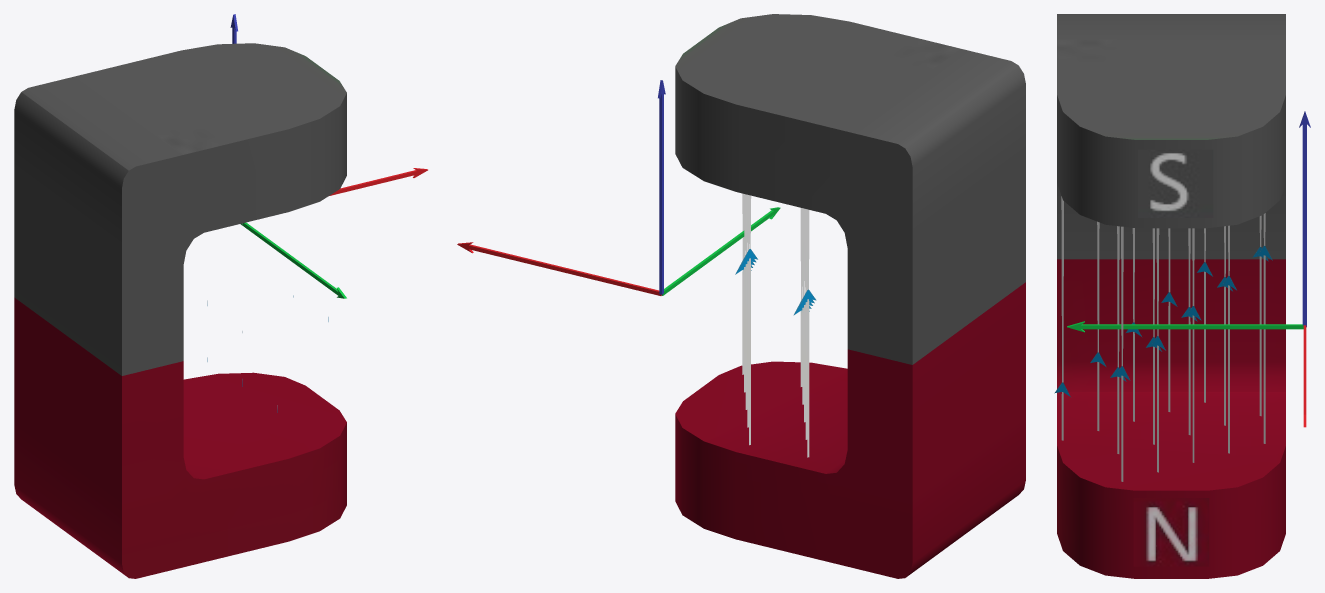
File: magnet.glb
3 views of the same model, side by side, from view 1: azimuth 30°, elevation 25°; view 2: azimuth 150°, elevation 25°; view 3: azimuth 270°, elevation 25° (orthographic). The views are drawn at different scales.
Parts seen in each view (by area): view 1: Magnet, direction; view 2: Magnet, MField, direction; view 3: Magnet, Pole, MField, direction.
Part boxes in pixels (bbox=[...]): Magnet: bbox=[14, 43, 346, 578]; direction: bbox=[230, 14, 427, 298]; Magnet: bbox=[675, 14, 1025, 578]; MField: bbox=[735, 193, 816, 457]; direction: bbox=[457, 80, 780, 295]; Magnet: bbox=[1057, 14, 1285, 578]; Pole: bbox=[1133, 149, 1213, 566]; MField: bbox=[1054, 196, 1272, 481]; direction: bbox=[1067, 111, 1310, 427].
Size of the model in its own units: 1.82 by 1.76 by 0.9007.
Materials: 1 (1 with a texture image).
